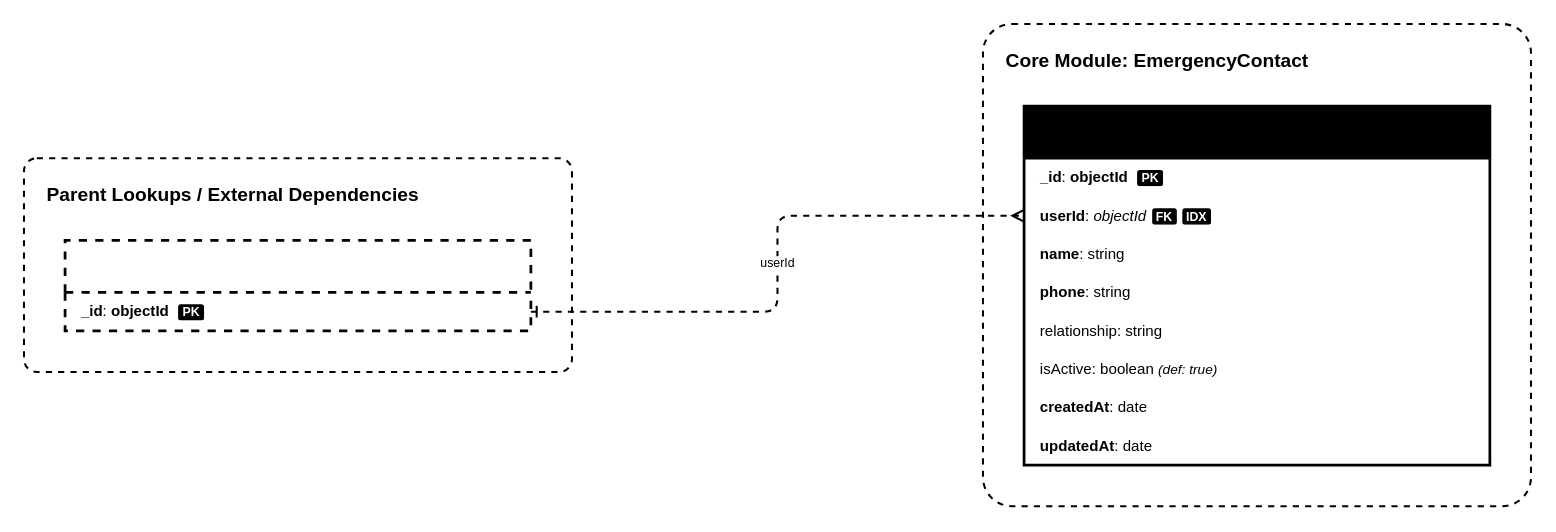
The diagram is 1556 pixels wide and 532 high, and some of its shapes have lost their labels. Here are the shapes that lost their labels. From the top down, the box of each, then its label:
(63, 238, 532, 332): User
(1022, 104, 1491, 466): EmergencyContact
